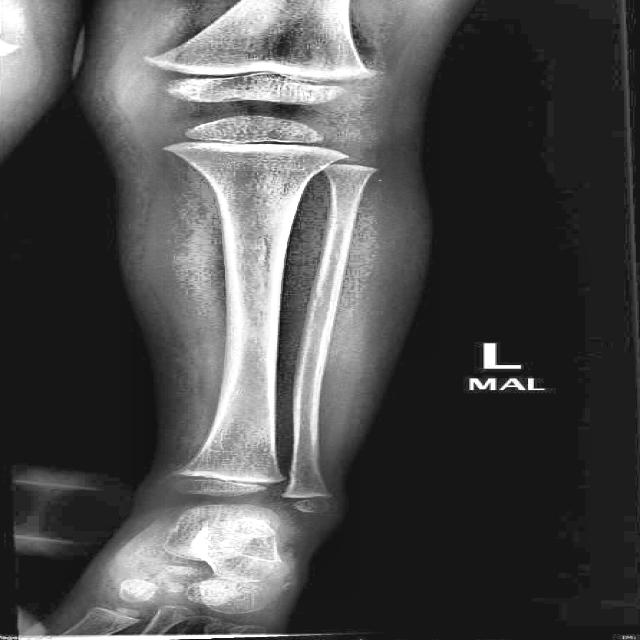line: (198, 386, 240, 454)
